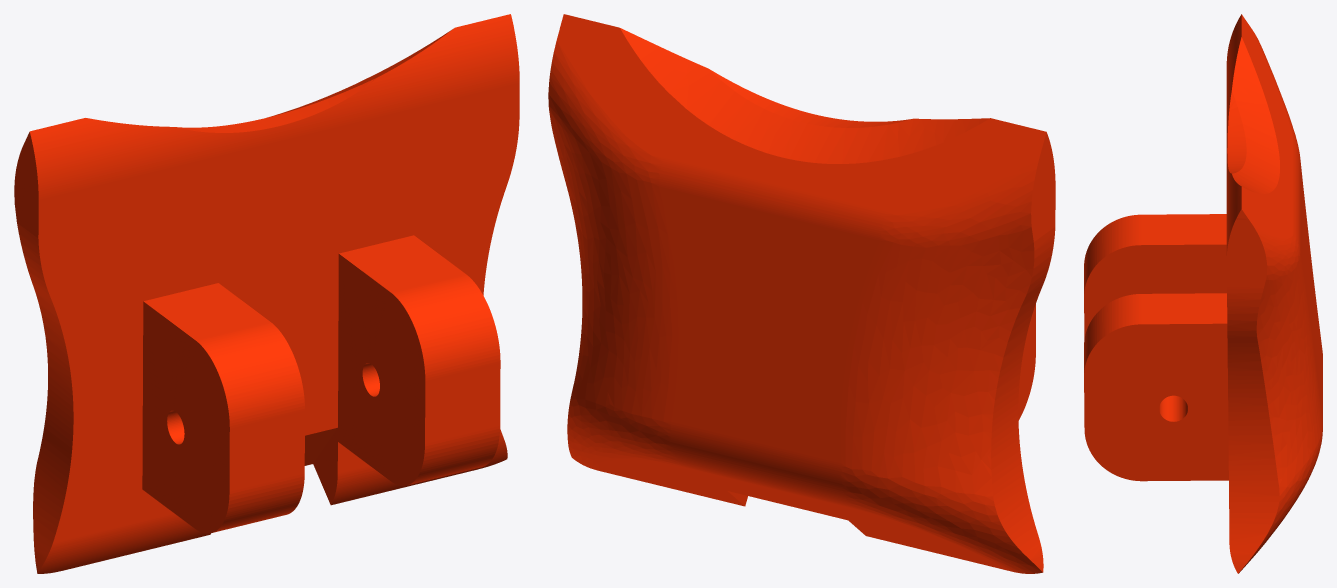
The model's file is L_Hand_Thumb_Middle_visuals_ALLEX_Left_Hand_Thumb_Middle_Pad.obj.
The picture shows the model from 3 angles, left to right: view 1: azimuth 30°, elevation 25°; view 2: azimuth 150°, elevation 25°; view 3: azimuth 270°, elevation 25°; orthographic projection. The views are drawn at different scales.
Size of the model in its own units: 0.016 by 0.0142 by 0.00829.
